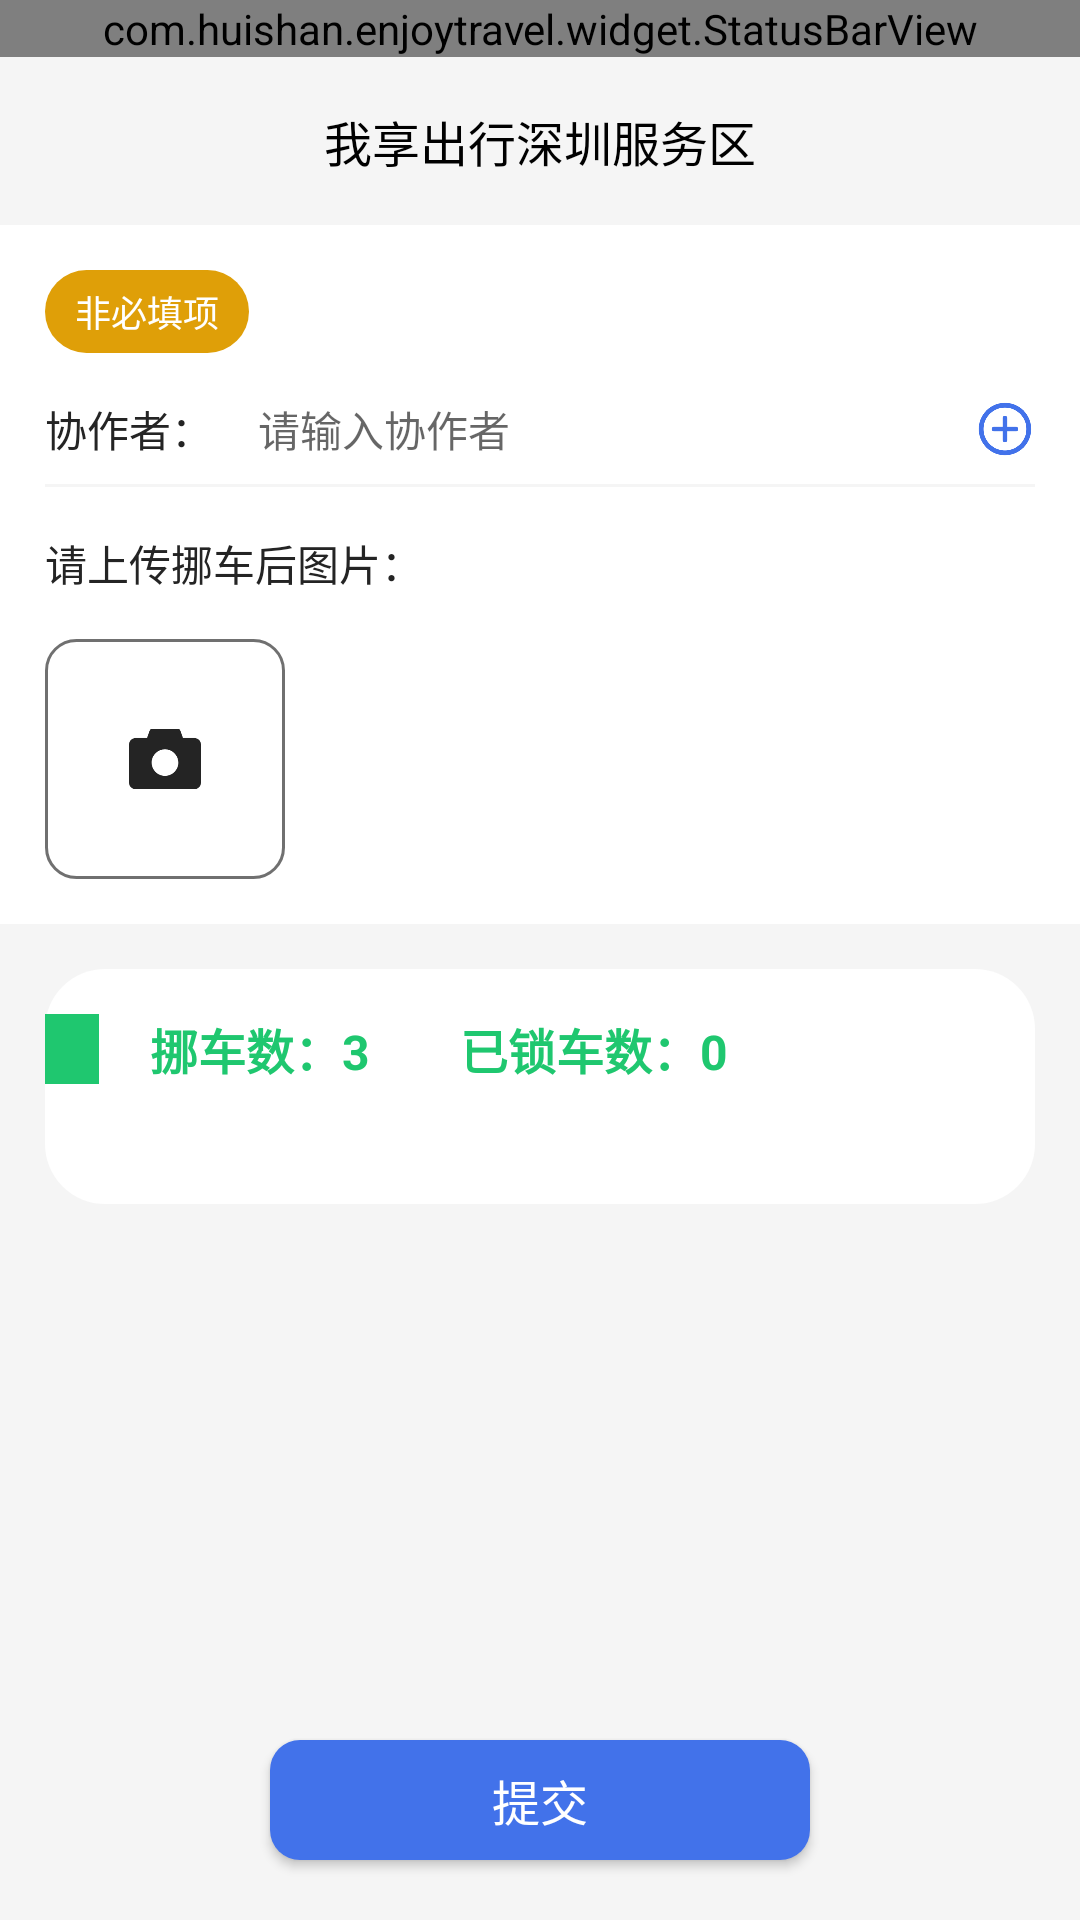

Locate icon controls on the screen. Image size 1080*1920, boxes as Rect(x1, y1, x2, y2).
camera: Rect(129, 729, 201, 789)
plus: Rect(979, 403, 1031, 455)
